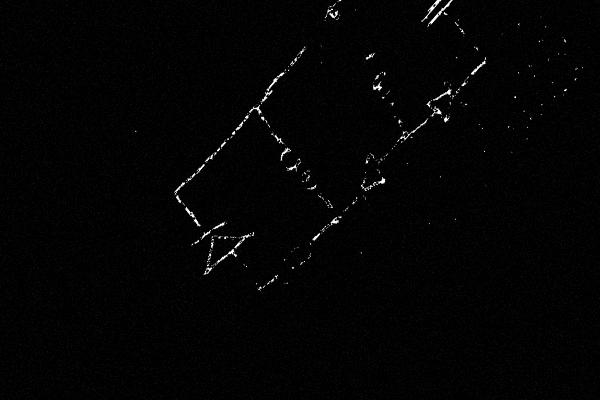capacitor: (408, 0, 466, 38)
diode: (179, 191, 258, 286)
